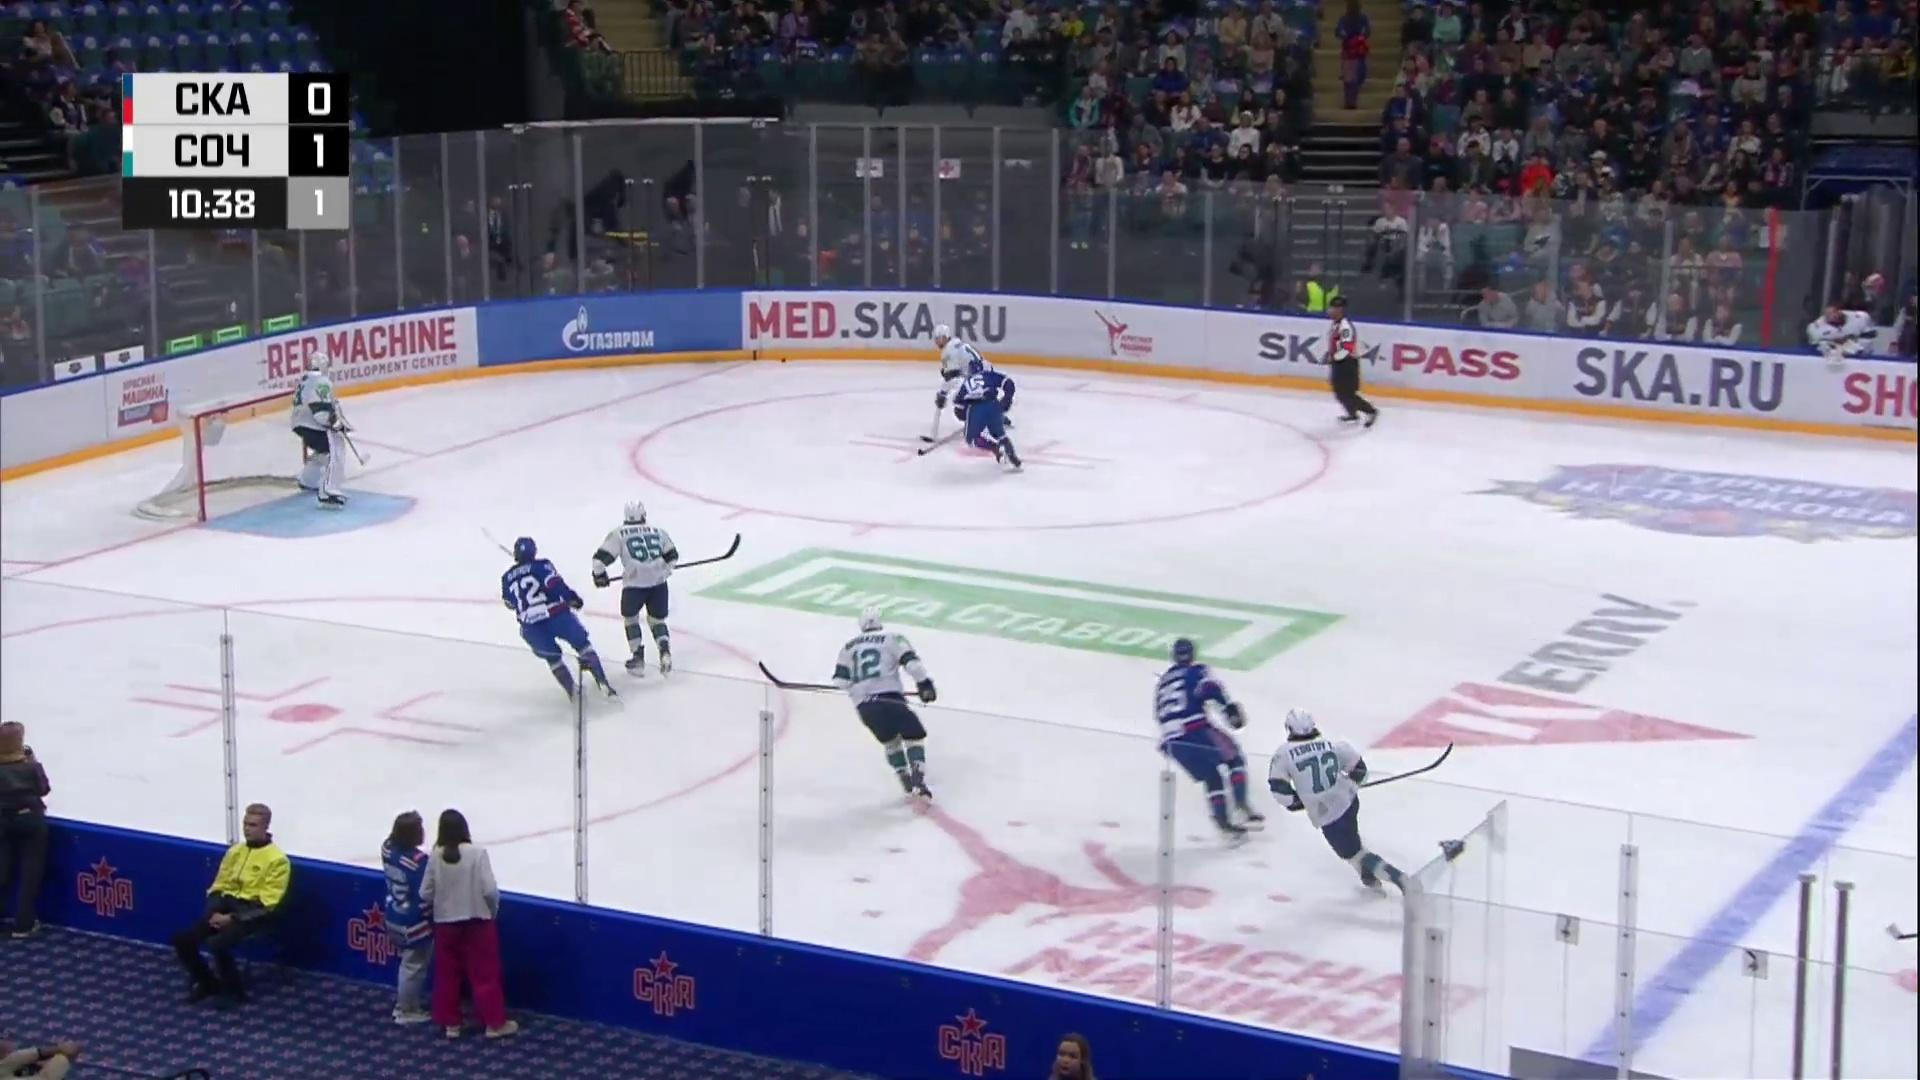ball: (781, 357, 786, 363)
